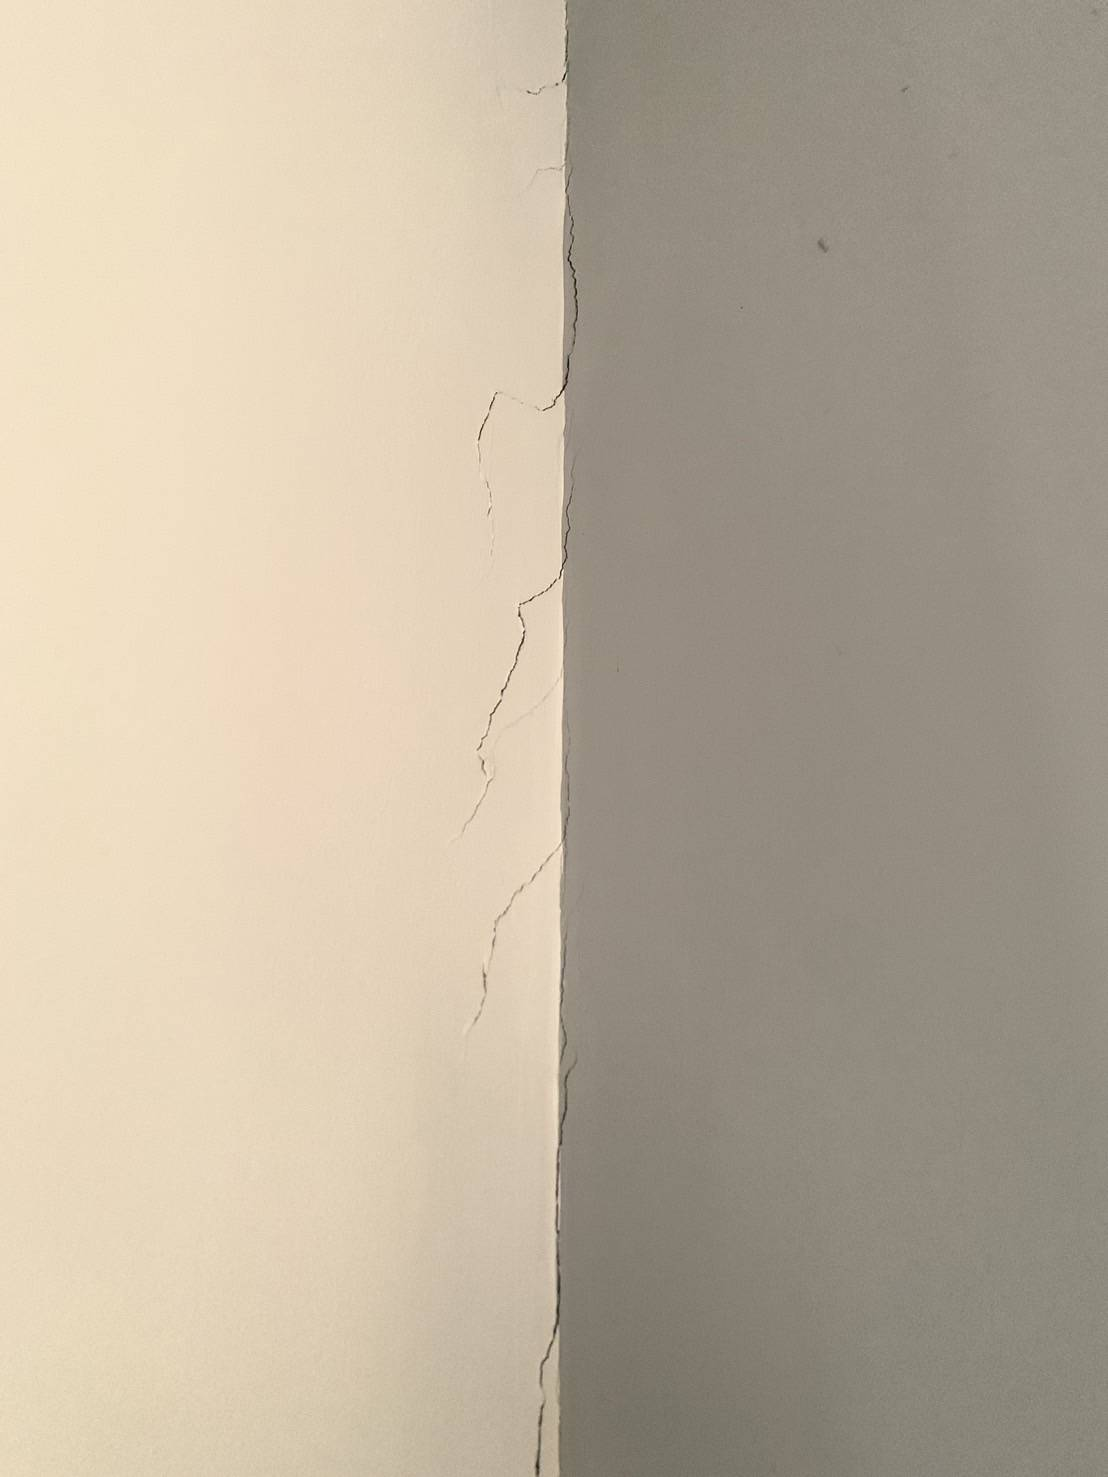Low: (455, 1, 602, 1477)
